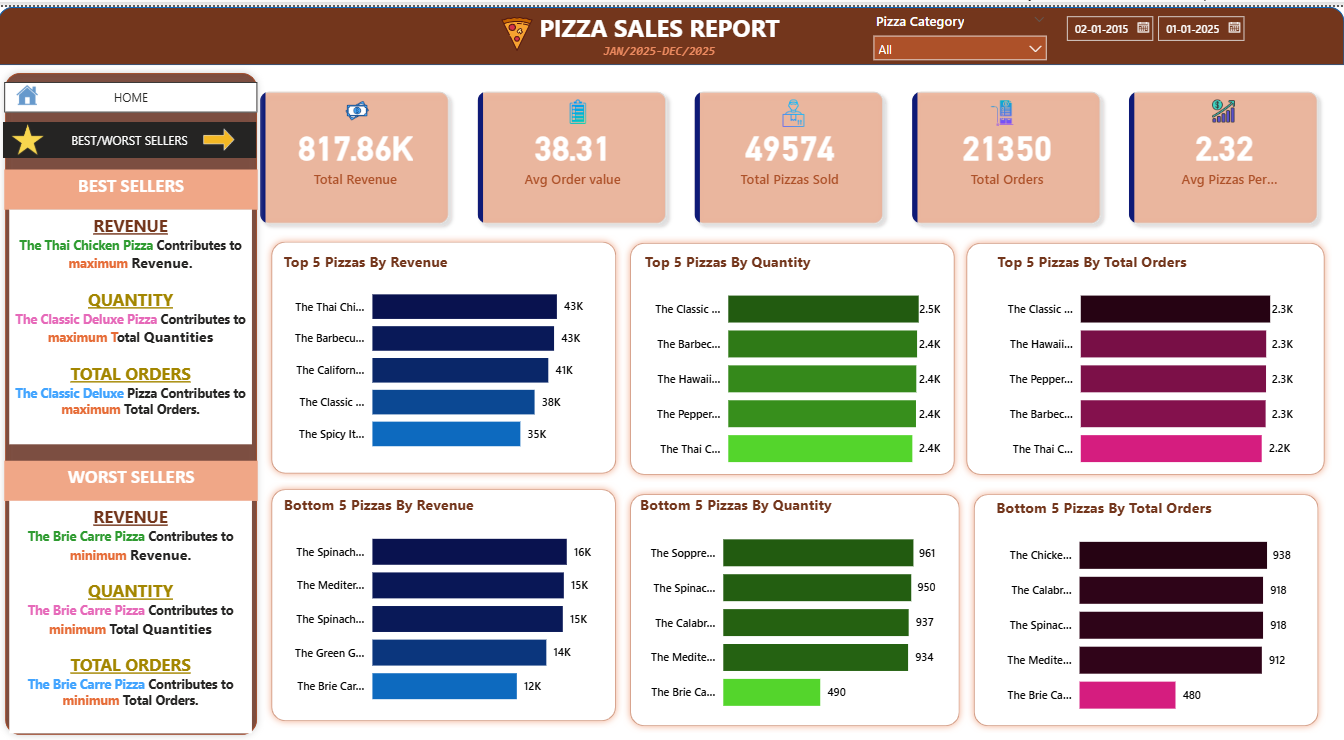

What the dashboard file says about the page in this screenshot:
{"tool":"powerbi","page":{"name":"BEST/WORST SELLERS","canvas":[1500,820],"ordinal":1},"visuals":[{"type":"cardVisual","fields":{"Data":["pizza_sales.Total Revenue","pizza_sales.Avg Order value","pizza_sales.Total Pizzas Sold","pizza_sales.Total Orders","pizza_sales.Avg Pizzas Per Order"]},"box":[262.9,65.7,1237.1,205.7],"z":0},{"type":"shape","box":[0,65.5,296.6,753.4],"z":1000},{"type":"image","box":[380.7,103.6,40,25],"z":2000},{"type":"image","box":[630.7,102.9,30,27.1],"z":3000},{"type":"image","box":[865.7,102.9,40,30.7],"z":4000},{"type":"image","box":[1090,102.9,57.1,30],"z":5000},{"type":"image","box":[1340,102.9,51.4,25.7],"z":6000},{"type":"shape","box":[0,0,1500,65],"z":7000},{"type":"textbox","box":[578.8,0,315,46.2],"z":8000},{"type":"textbox","box":[650.8,34.2,172.5,30.8],"z":9000},{"type":"image","box":[557.5,11.2,42.5,38.8],"z":10000},{"type":"shape","box":[296.6,253.5,400,274.4],"z":11000},{"type":"textbox","box":[7,181,282.7,44.6],"z":12000},{"type":"textbox","box":[12.5,225.6,270.2,261.8],"z":13000},{"type":"textbox","box":[7,505.5,282.7,44.6],"z":14000},{"type":"textbox","box":[12.5,550.1,270.2,259],"z":15000},{"type":"slicer","fields":{"Values":["pizza_sales.pizza_category"]},"box":[964.4,0,213.3,65.6],"z":16000},{"type":"slicer","fields":{"Values":["pizza_sales.order_date"]},"box":[1178.7,0,241.2,65.9],"z":17000},{"type":"shape","box":[696.3,254.9,377.4,274.4],"z":18000},{"type":"shape","box":[1071,254.9,415,274.4],"z":19000},{"type":"shape","box":[296.6,529.2,399.7,274.4],"z":20000},{"type":"shape","box":[696.3,534.8,383,274.4],"z":21000},{"type":"shape","box":[1079.3,534.8,399.7,274.4],"z":22000},{"type":"barChart","title":"Top 5 Pizzas By Revenue","fields":{"Category":["pizza_sales.pizza_name"],"Y":["pizza_sales.Total Revenue"]},"box":[313.4,271.6,364.9,238.1],"z":23000},{"type":"barChart","title":"Bottom 5 Pizzas By Revenue","fields":{"Category":["pizza_sales.pizza_name"],"Y":["pizza_sales.Total Revenue"]},"box":[313.6,543.5,365,249.3],"z":24000},{"type":"barChart","title":"Top 5 Pizzas By Quantity","fields":{"Category":["pizza_sales.pizza_name"],"Y":["pizza_sales.Total Pizzas Sold"]},"box":[715.6,271.8,339.3,257.3],"z":25000},{"type":"barChart","title":"Bottom 5 Pizzas By Quantity","fields":{"Category":["pizza_sales.pizza_name"],"Y":["pizza_sales.Total Pizzas Sold"]},"box":[710.8,543.5,339.3,257.3],"z":26000},{"type":"barChart","title":"Top 5 Pizzas By Total Orders","fields":{"Category":["pizza_sales.pizza_name"],"Y":["pizza_sales.Total Orders"]},"box":[1108,271.8,339.3,257.3],"z":27000},{"type":"barChart","title":"Bottom 5 Pizzas By Total Orders","fields":{"Category":["pizza_sales.pizza_name"],"Y":["pizza_sales.Total Orders"]},"box":[1107.2,545.9,338.4,257.6],"z":28000},{"type":"pageNavigator","box":[7,83.6,282.7,34.8],"z":28001},{"type":"pageNavigator","box":[5.6,128.1,282.7,40.4],"z":28002},{"type":"image","box":[228.4,128.1,34.8,39],"z":28003},{"type":"image","box":[12.5,50.1,40.4,96.1],"z":28004},{"type":"image","box":[12.5,129.5,40.4,36.2],"z":28005}]}

Visuals, with their boxes in screenshot pixels (x1, y1, x2, y2), scaled from the page's 1500x820 canvas onto the 1344x740 screenshot:
cardVisual - pizza_sales.Total Revenue x pizza_sales.Avg Order value: (236, 59, 1343, 245)
shape: (0, 59, 266, 739)
image: (341, 93, 377, 116)
image: (565, 93, 592, 117)
image: (776, 93, 812, 121)
image: (977, 93, 1028, 120)
image: (1201, 93, 1247, 116)
shape: (0, 0, 1343, 59)
textbox: (519, 0, 801, 42)
textbox: (583, 31, 738, 59)
image: (500, 10, 538, 45)
shape: (266, 229, 624, 476)
textbox: (6, 163, 260, 204)
textbox: (11, 204, 253, 440)
textbox: (6, 456, 260, 496)
textbox: (11, 496, 253, 730)
slicer - pizza_sales.pizza_category: (864, 0, 1055, 59)
slicer - pizza_sales.order_date: (1056, 0, 1272, 59)
shape: (624, 230, 962, 478)
shape: (960, 230, 1331, 478)
shape: (266, 478, 624, 725)
shape: (624, 483, 967, 730)
shape: (967, 483, 1325, 730)
"Top 5 Pizzas By Revenue" barChart: (281, 245, 608, 460)
"Bottom 5 Pizzas By Revenue" barChart: (281, 490, 608, 715)
"Top 5 Pizzas By Quantity" barChart: (641, 245, 945, 477)
"Bottom 5 Pizzas By Quantity" barChart: (637, 490, 941, 723)
"Top 5 Pizzas By Total Orders" barChart: (993, 245, 1297, 477)
"Bottom 5 Pizzas By Total Orders" barChart: (992, 493, 1295, 725)
pageNavigator: (6, 75, 260, 107)
pageNavigator: (5, 116, 258, 152)
image: (205, 116, 236, 151)
image: (11, 45, 47, 132)
image: (11, 117, 47, 150)
